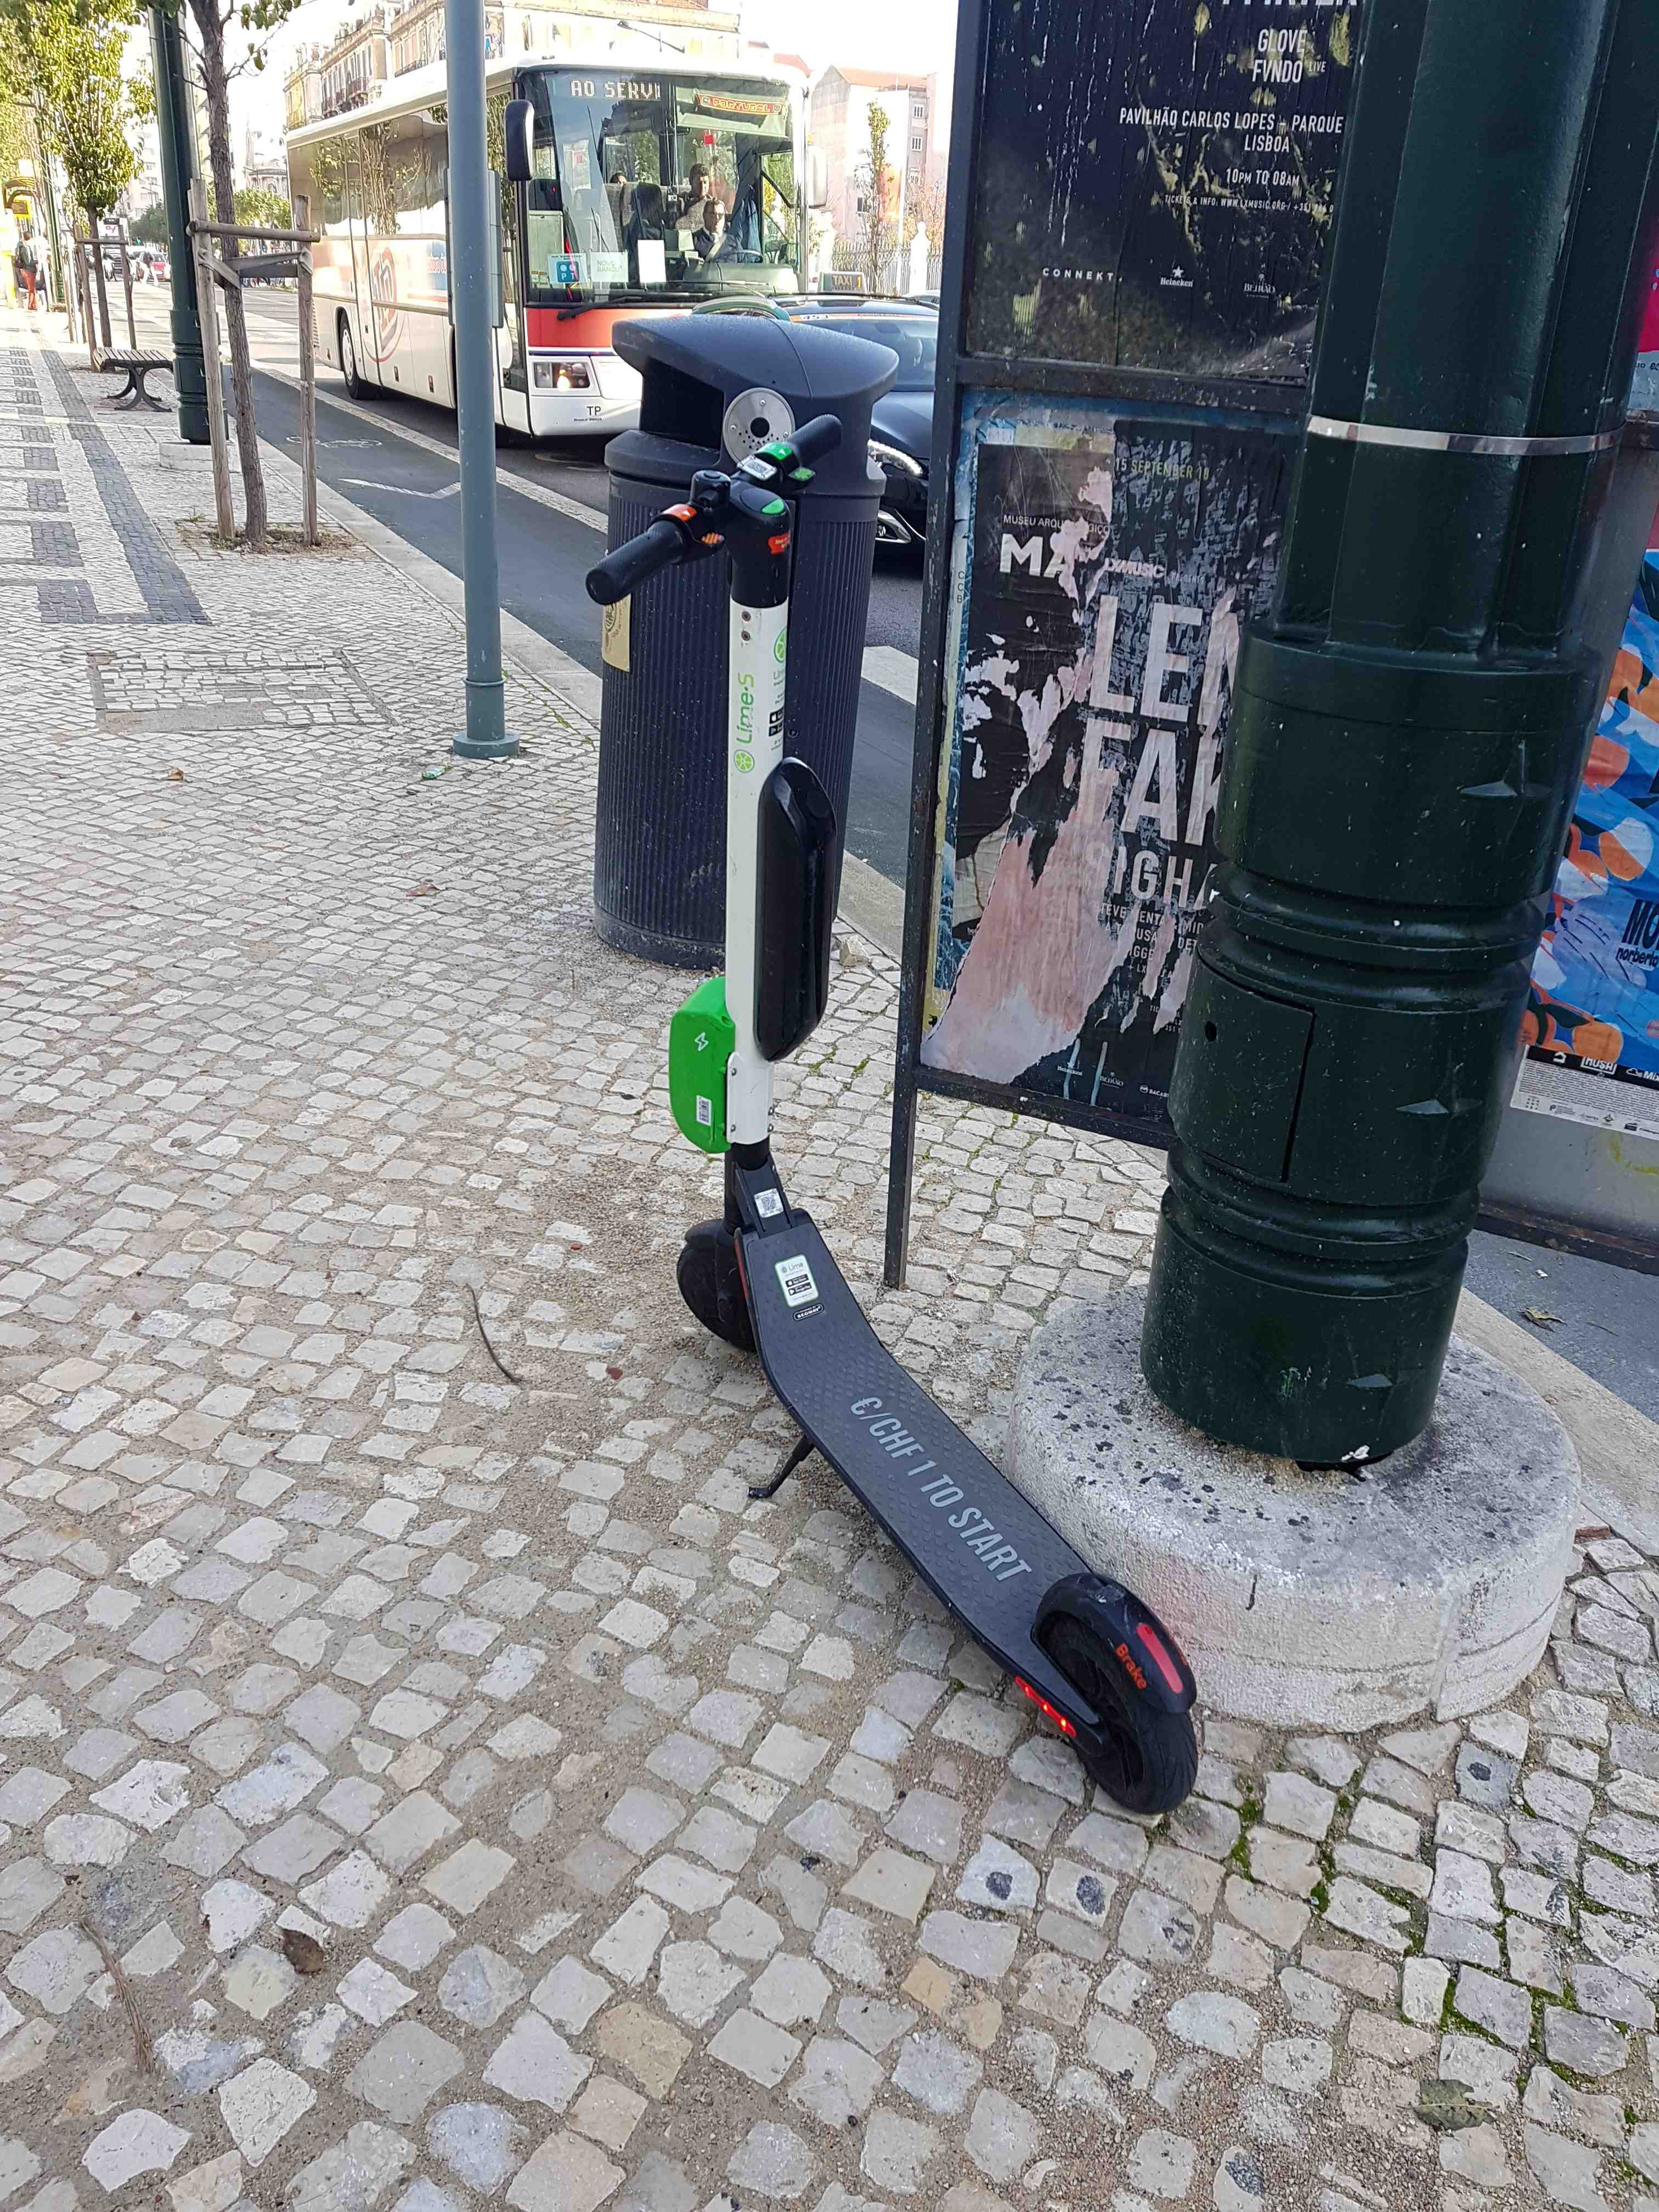scooter: (542, 402, 1244, 1824)
